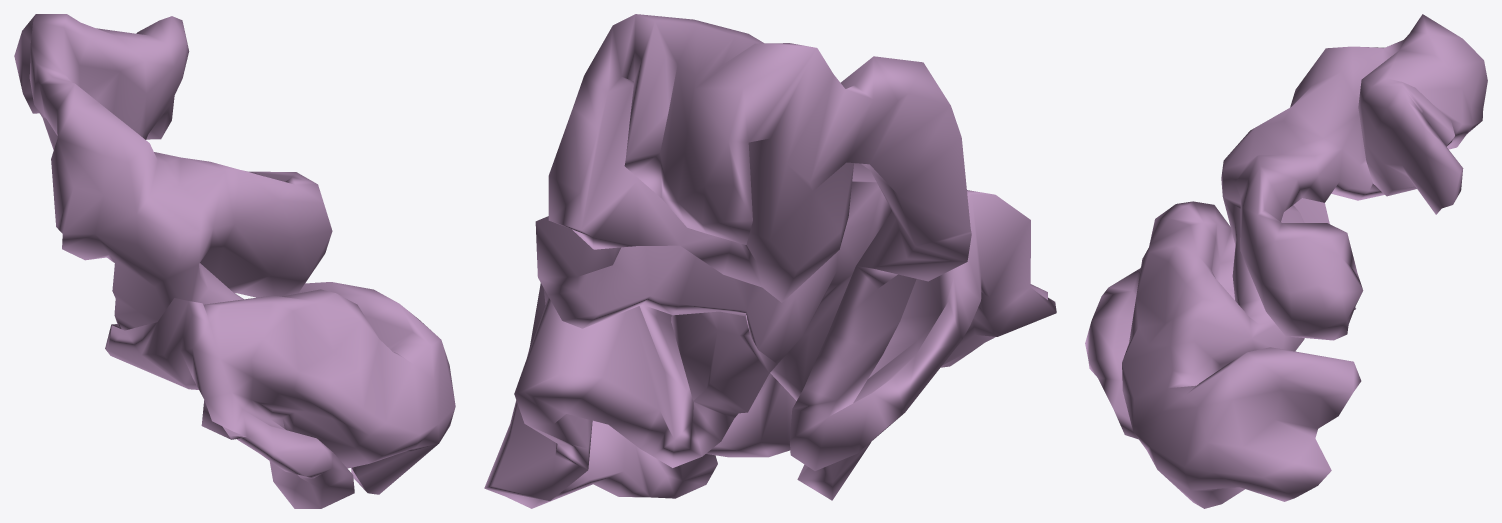
3 views of the same model, side by side, from view 1: azimuth 30°, elevation 25°; view 2: azimuth 150°, elevation 25°; view 3: azimuth 270°, elevation 25° (orthographic). The views are drawn at different scales.
Visible parts, largest first — view 1: 左侧顶上小叶; view 2: 左侧顶上小叶; view 3: 左侧顶上小叶.
Boxes of the visible parts, <box> form: 左侧顶上小叶: <box>14,14,455,508</box>; 左侧顶上小叶: <box>484,14,1056,508</box>; 左侧顶上小叶: <box>1085,14,1487,508</box>.
Bounding box in the file's own units: 0.0535 × 0.0662 × 0.0616.
